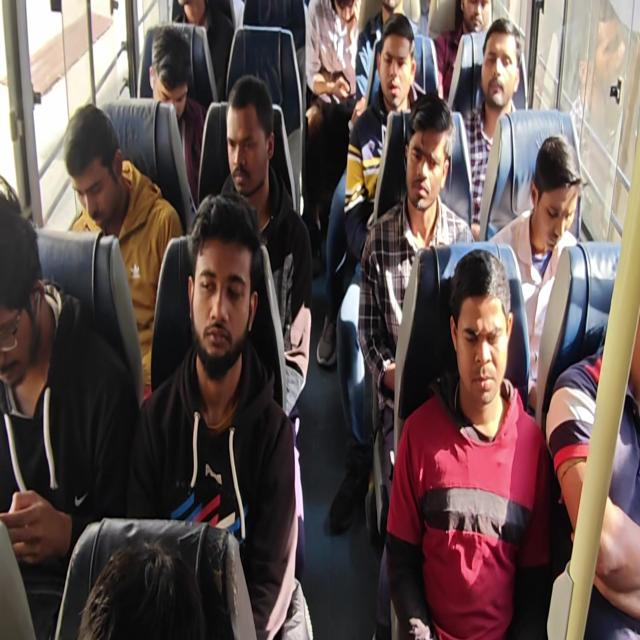person: (1, 1, 638, 638), (127, 191, 313, 638), (384, 248, 552, 638), (356, 91, 476, 637), (0, 198, 138, 637), (218, 74, 313, 582), (62, 103, 184, 399), (545, 310, 639, 638), (488, 134, 582, 414), (343, 13, 426, 263), (567, 0, 639, 241), (303, 0, 362, 245), (77, 537, 206, 639), (463, 17, 523, 235), (148, 25, 206, 209), (171, 0, 234, 102), (434, 0, 492, 102), (355, 0, 405, 111)
